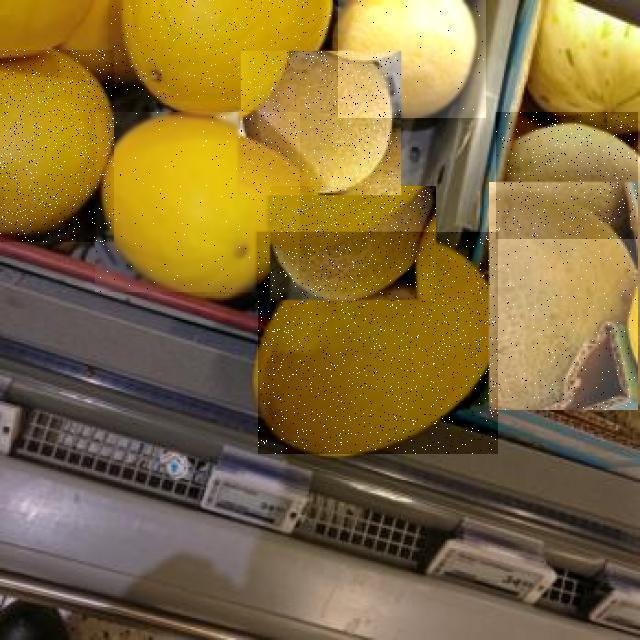Cantaloupe: (489, 182, 638, 410), (241, 51, 401, 195), (270, 186, 436, 300), (497, 112, 639, 239), (338, 0, 486, 118)
Galia: (258, 232, 498, 454), (96, 113, 300, 293), (108, 0, 332, 101), (0, 50, 114, 242)
